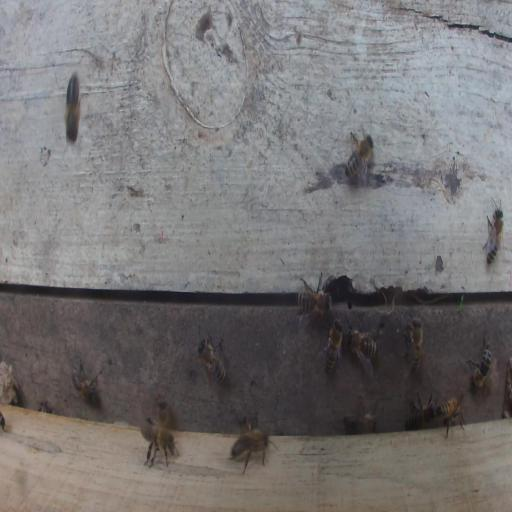nonpollenbee: (138, 418, 180, 470), (345, 312, 378, 376), (343, 130, 375, 191), (227, 426, 272, 468), (197, 331, 227, 387), (464, 333, 492, 390), (342, 392, 379, 434), (402, 315, 426, 377), (404, 389, 437, 432), (297, 283, 333, 322), (484, 205, 505, 270), (322, 318, 345, 374), (65, 71, 82, 145), (71, 357, 98, 403), (436, 394, 464, 430), (155, 399, 170, 428)
